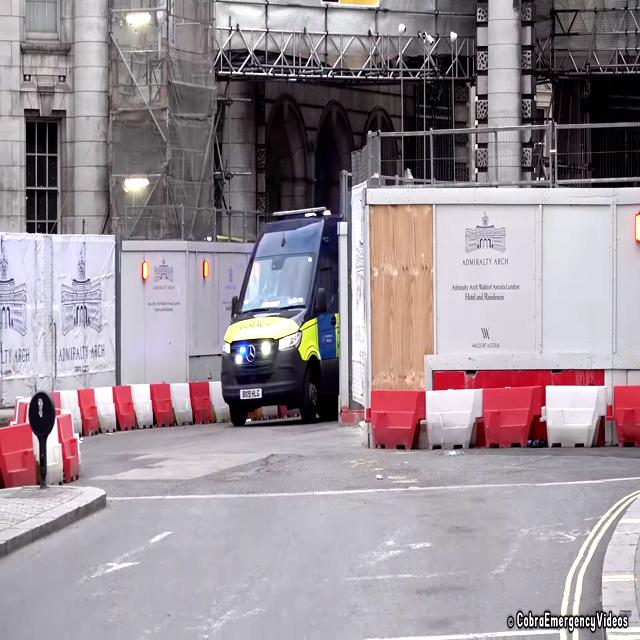emergency-vehicles: (178, 176, 380, 426)
